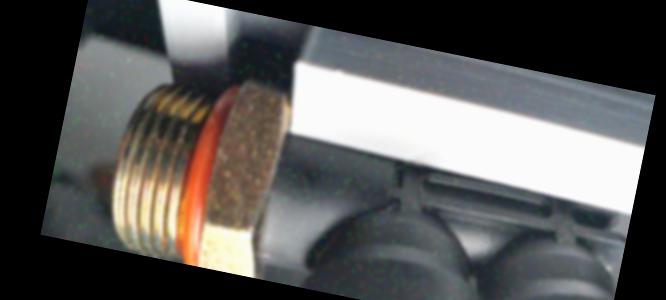joint line: (281, 250, 307, 265)
white mark: (249, 246, 278, 264)
